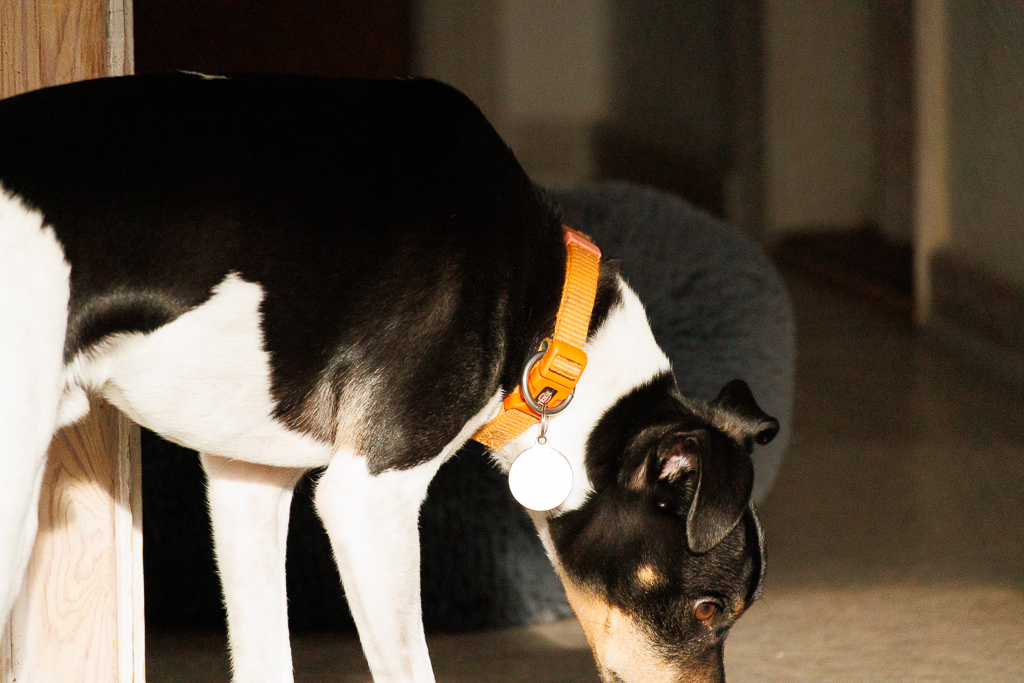Dog: (0, 43, 799, 682)
